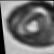correct: (4, 2, 54, 50)
